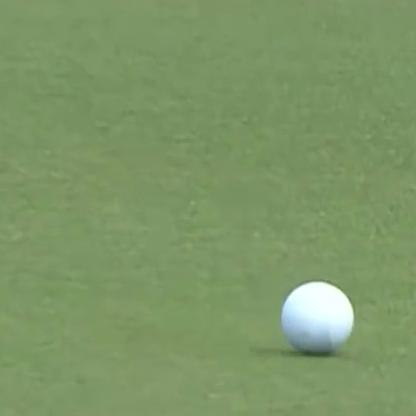golfball: (279, 274, 350, 351)
